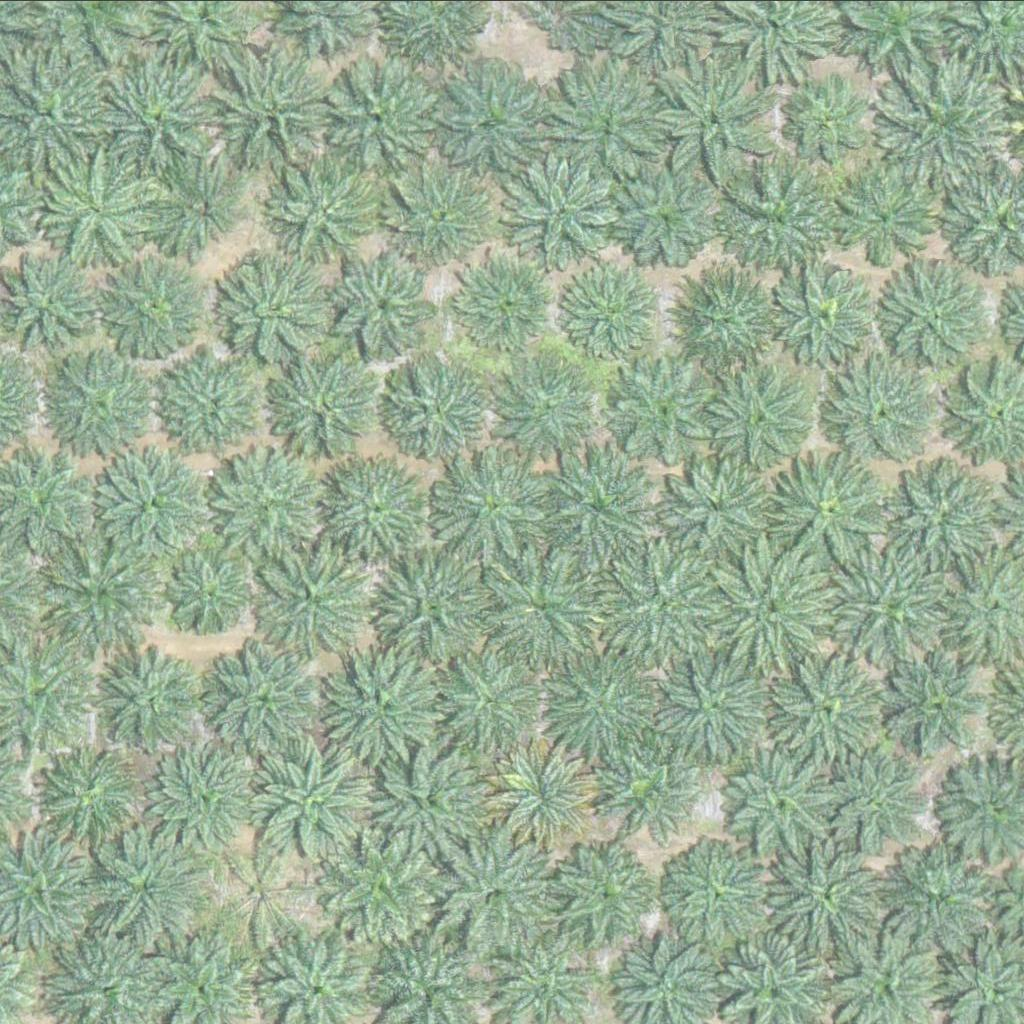Kelapa_Sawit: (878, 61, 1004, 186), (42, 529, 168, 654), (548, 67, 674, 192), (644, 57, 770, 182), (483, 545, 609, 670), (602, 539, 728, 664), (209, 57, 334, 182), (705, 545, 830, 670), (320, 446, 434, 559), (254, 540, 368, 653), (435, 454, 549, 567), (207, 641, 321, 754), (824, 358, 937, 471), (774, 449, 887, 562), (879, 459, 992, 572), (771, 838, 884, 951), (872, 852, 985, 965), (274, 152, 387, 265), (103, 249, 216, 362), (225, 254, 338, 367), (46, 346, 159, 459), (429, 66, 542, 179), (505, 157, 618, 270), (701, 363, 814, 476), (660, 449, 773, 562), (541, 447, 654, 560), (379, 554, 492, 667), (324, 653, 437, 766), (325, 832, 438, 945), (490, 738, 603, 851), (723, 741, 836, 854), (443, 836, 556, 949), (548, 840, 661, 953), (715, 169, 829, 281), (666, 264, 780, 376), (602, 358, 716, 470), (155, 738, 269, 850), (874, 261, 987, 373), (828, 551, 941, 663), (99, 60, 212, 172), (325, 57, 438, 169), (164, 349, 277, 461), (272, 352, 385, 464), (100, 448, 213, 560), (211, 449, 324, 561), (434, 642, 547, 754), (543, 652, 656, 764), (654, 652, 767, 764), (766, 653, 879, 765), (90, 831, 203, 943), (374, 746, 487, 858), (252, 745, 365, 857), (212, 842, 313, 942), (890, 655, 991, 755), (50, 159, 151, 259), (144, 153, 245, 253), (391, 165, 492, 265), (331, 257, 432, 357), (668, 843, 769, 943), (832, 167, 932, 267), (773, 264, 873, 364), (385, 362, 485, 462), (613, 162, 713, 262), (457, 257, 557, 357), (564, 261, 664, 361), (496, 356, 596, 456), (39, 747, 139, 847), (97, 648, 197, 748), (605, 746, 694, 833), (837, 759, 925, 846), (782, 85, 858, 160), (173, 559, 249, 634)
